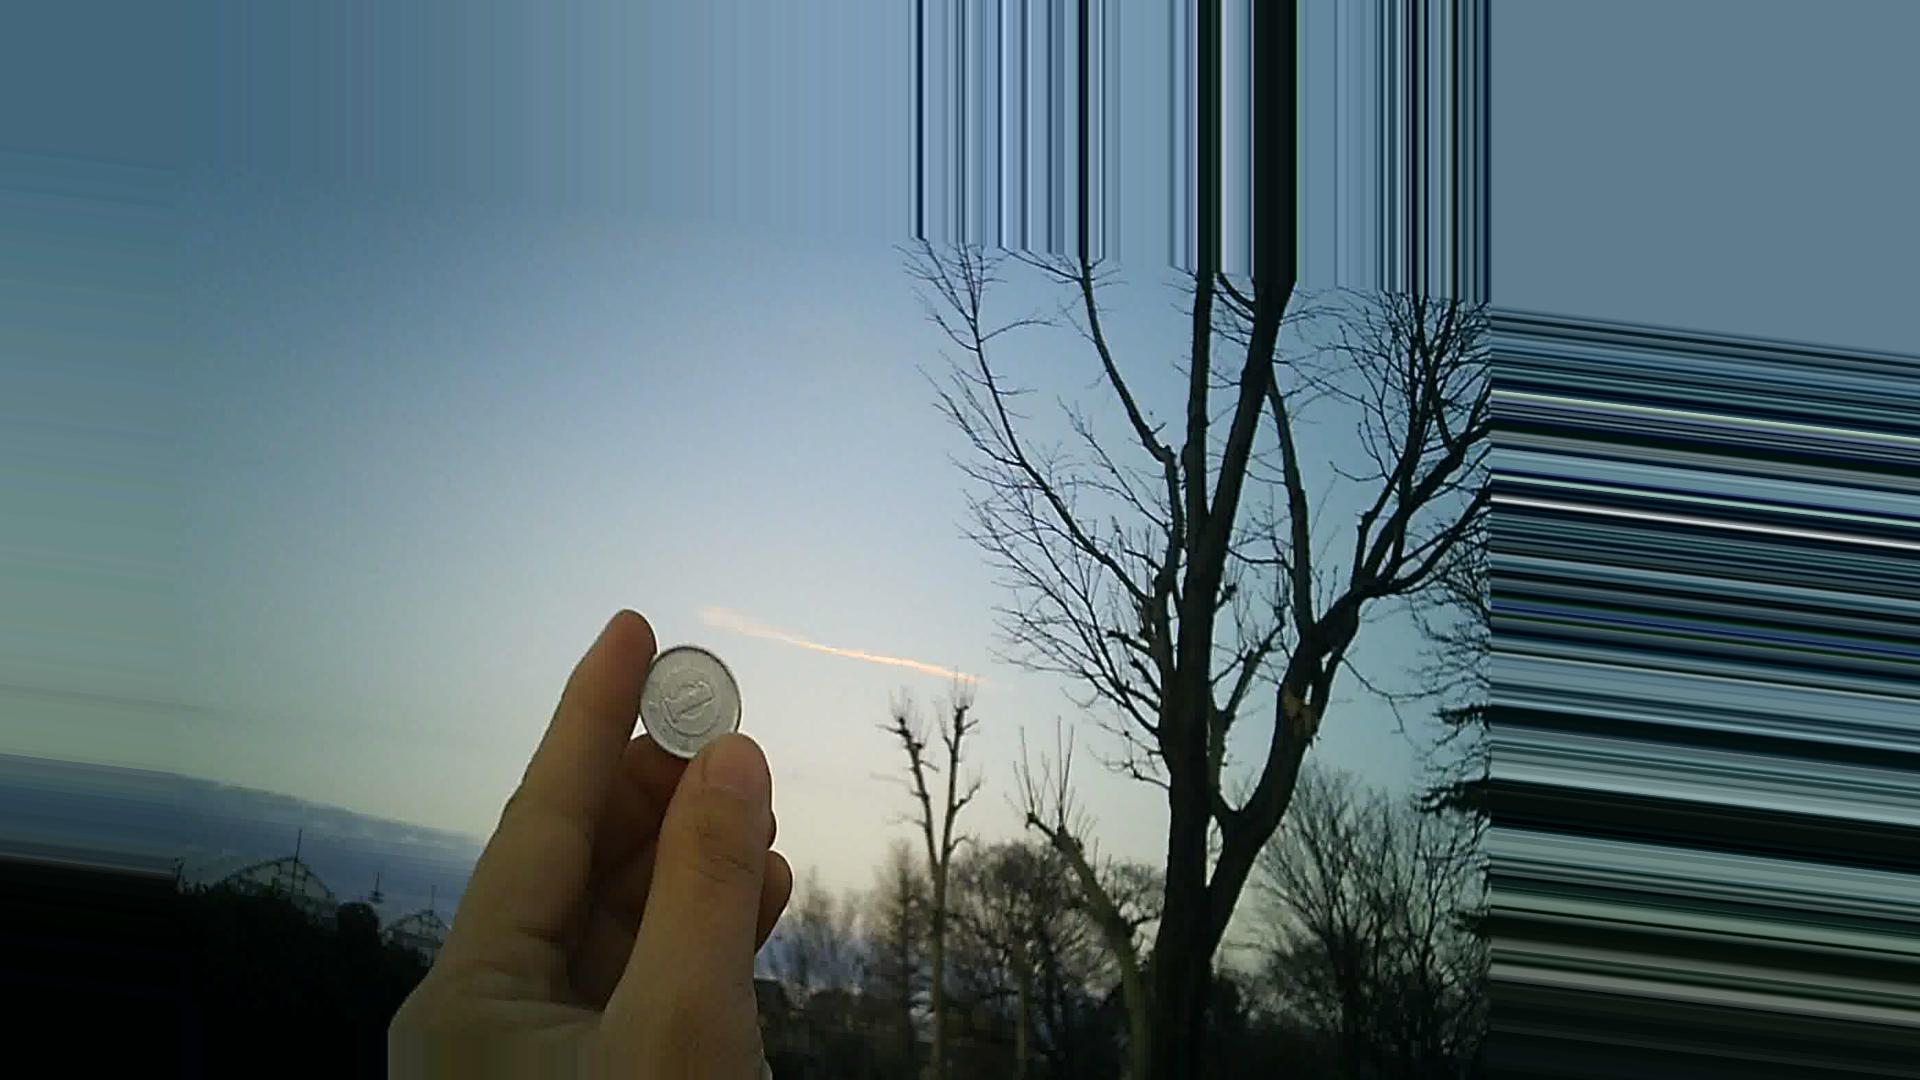1 Yen: (632, 641, 750, 775)
